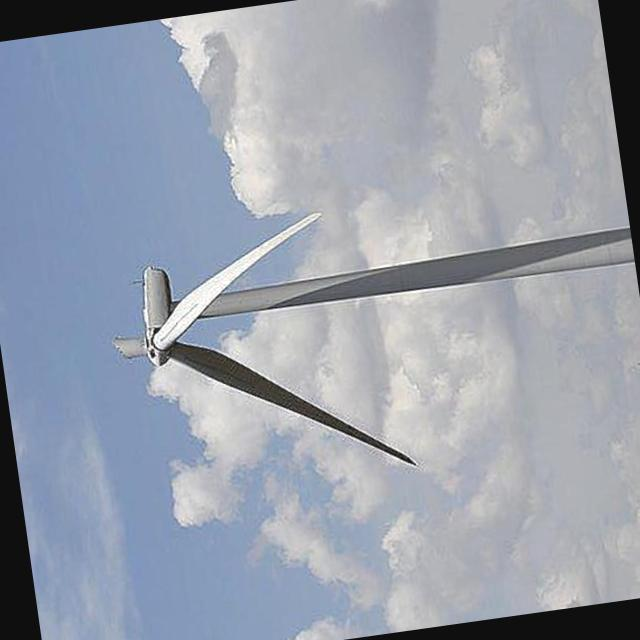crack: (90, 326, 160, 374)
